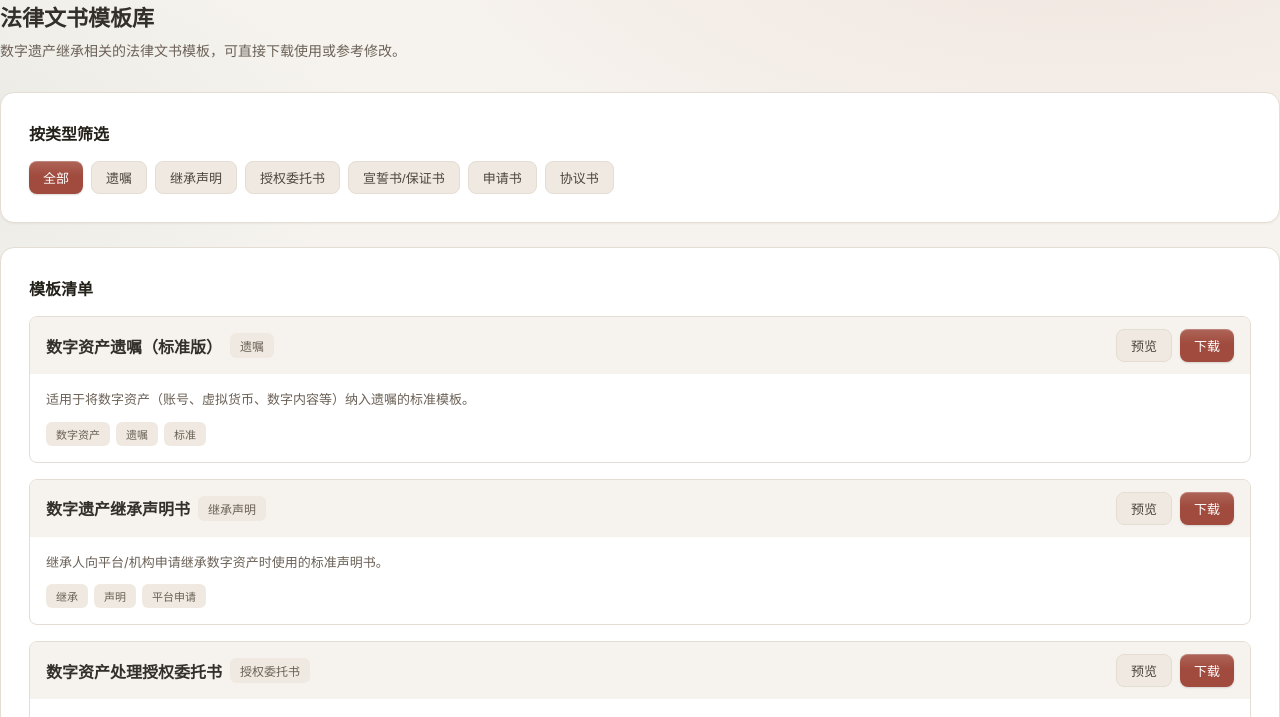
Test: 模板清单 › 每份模板都有非空正文（不是空壳占位）
What coordinates should you click on to do the following:
click the button "预览" in the row of "数字资产遗嘱（标准版）"
I would click on:
 (1144, 346)
Its box is [1116,329,1172,362].
(page scrolled)
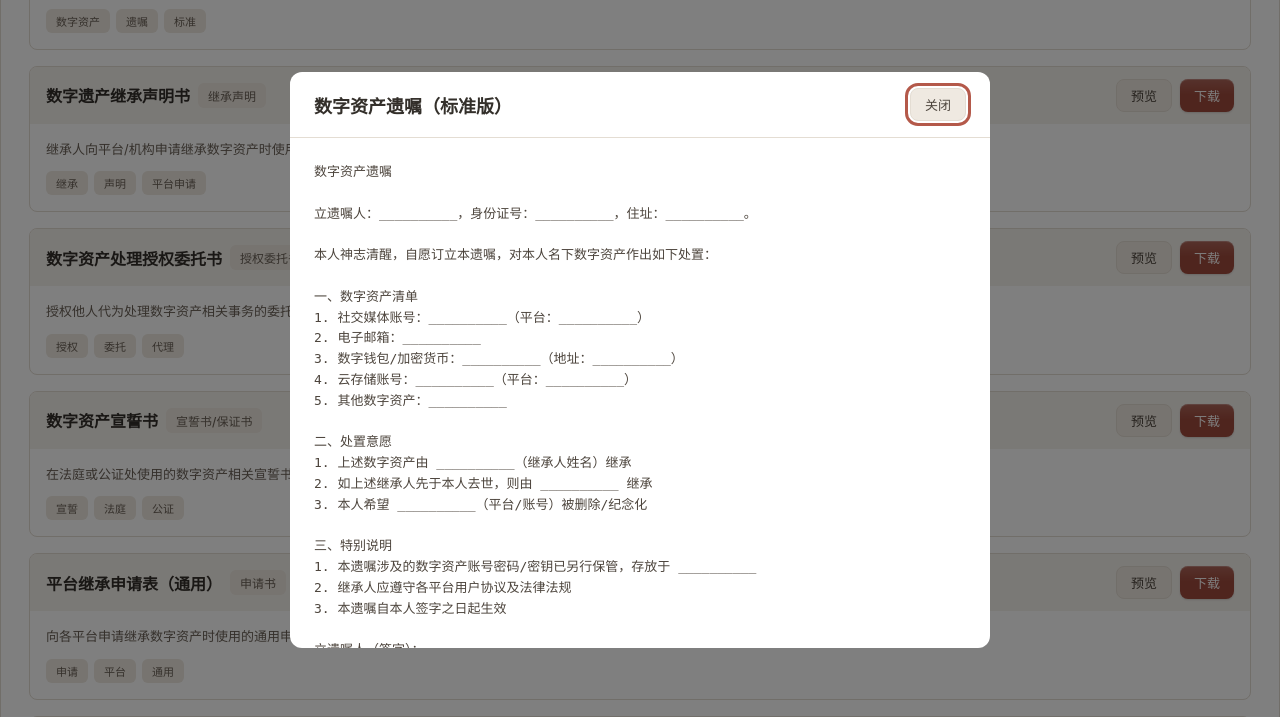
Expected: the dialog is shown, [290,72,990,648]
